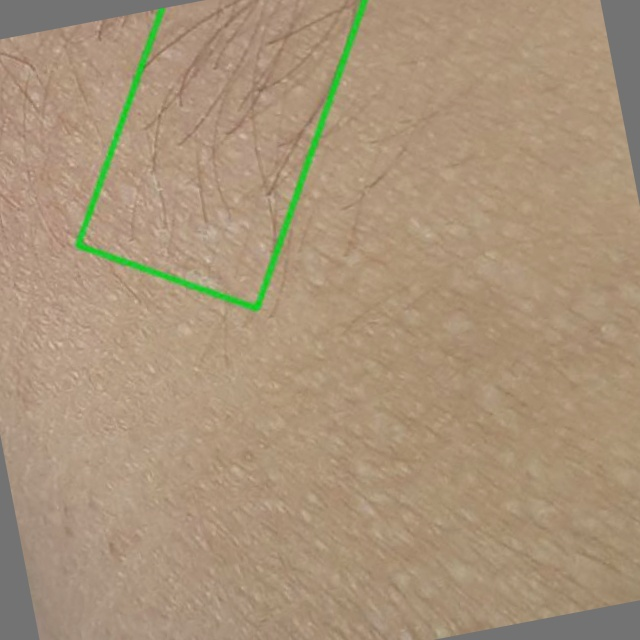Contact Dermatitis: (77, 0, 364, 308)
